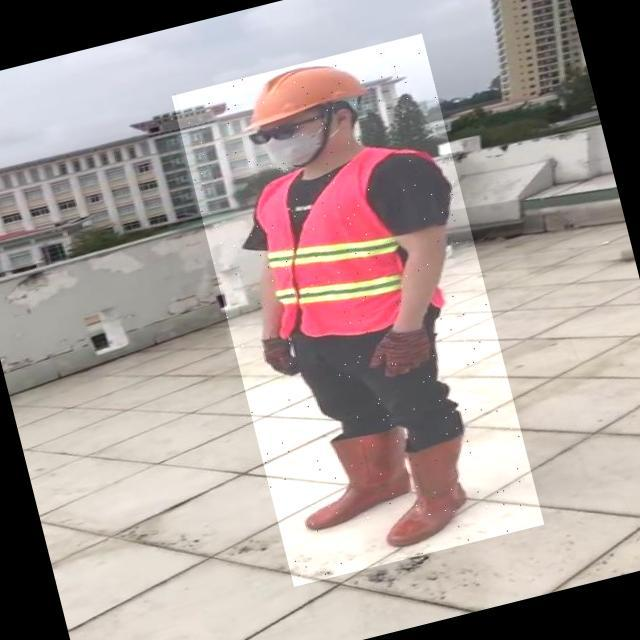Gloves: (359, 324, 441, 381), (259, 330, 303, 384)
Helmet: (236, 49, 372, 130)
Human: (171, 33, 544, 586)
Safety Boot: (288, 426, 420, 533), (367, 436, 480, 549)
Safety Vest: (241, 139, 452, 353)
